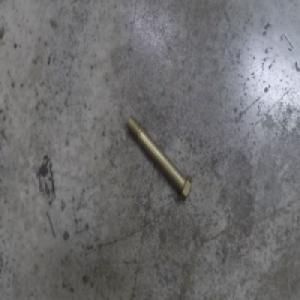Bolt: (126, 113, 193, 202)
